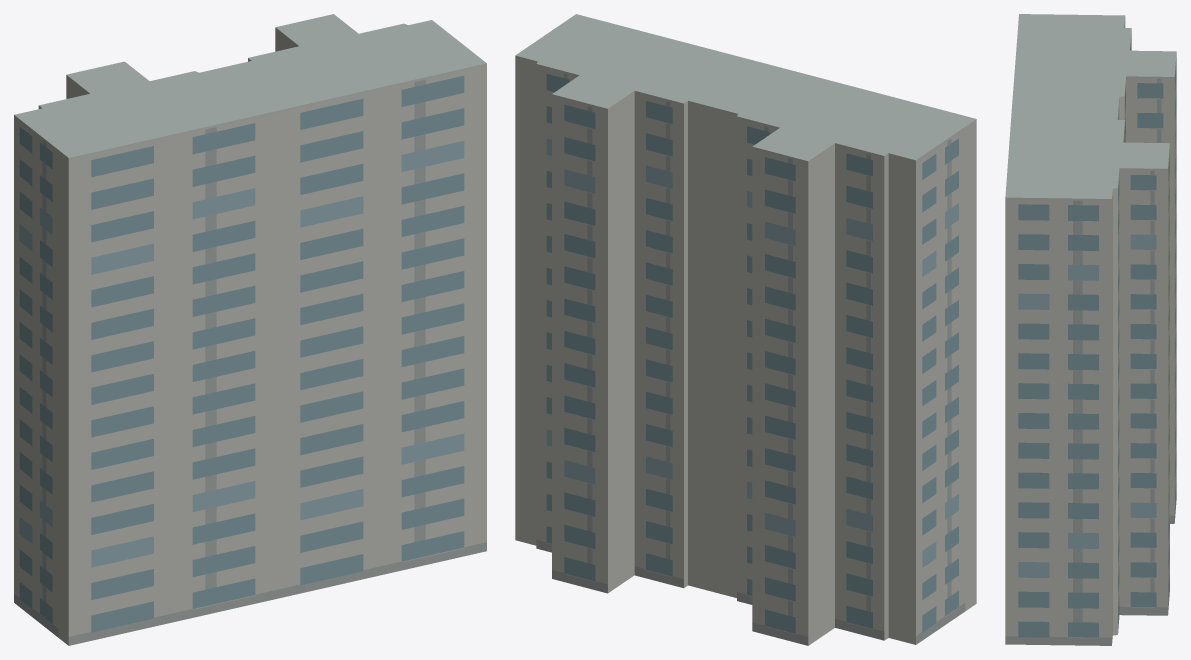
File: residential-fff6b6ec-813a-4834-923b-5b3fbe5f1fc7.glb
3 views of the same model, side by side, from view 1: azimuth 30°, elevation 25°; view 2: azimuth 150°, elevation 25°; view 3: azimuth 270°, elevation 25° (orthographic). The views are drawn at different scales.
Visible parts, largest first — view 1: residential-fff6b6ec-813a-4834-923b-5b3fbe5f1fc7.tmp; view 2: residential-fff6b6ec-813a-4834-923b-5b3fbe5f1fc7.tmp; view 3: residential-fff6b6ec-813a-4834-923b-5b3fbe5f1fc7.tmp.
Part boxes in pixels (box(x1,y1,x2,y2)): residential-fff6b6ec-813a-4834-923b-5b3fbe5f1fc7.tmp: box(14, 14, 486, 645); residential-fff6b6ec-813a-4834-923b-5b3fbe5f1fc7.tmp: box(515, 14, 976, 645); residential-fff6b6ec-813a-4834-923b-5b3fbe5f1fc7.tmp: box(1005, 14, 1176, 645).
Size of the model in its own units: 45.29 by 51 by 17.72.
